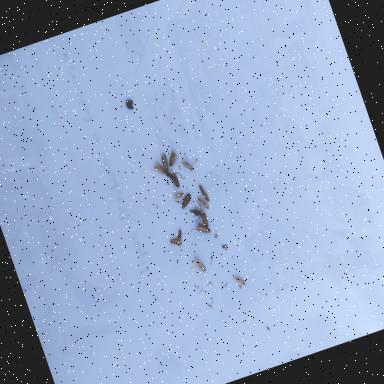pbw: (164, 145, 184, 167), (156, 152, 172, 176), (177, 190, 194, 207), (195, 219, 212, 236), (152, 157, 167, 175), (168, 170, 181, 188), (194, 256, 207, 274), (196, 194, 210, 210), (199, 182, 210, 202), (200, 207, 210, 228), (170, 186, 185, 200), (182, 158, 194, 174), (190, 205, 202, 217), (170, 236, 184, 246)
